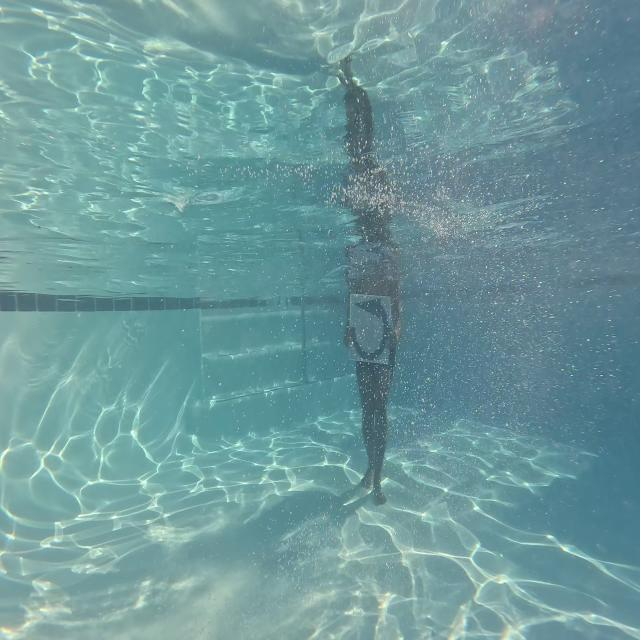blue_side: (346, 288, 389, 370)
